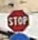stop: (5, 9, 30, 31)
